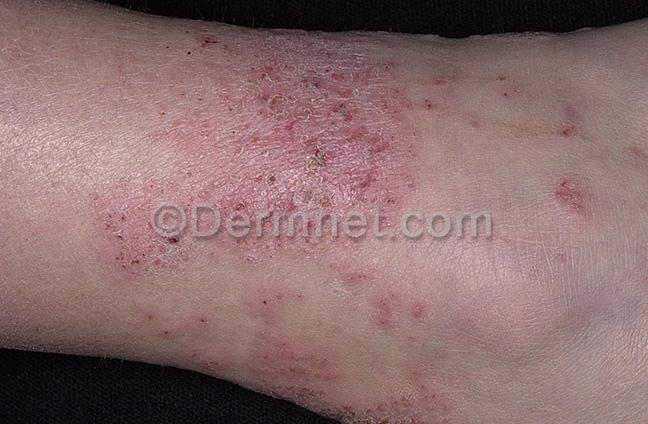Eritema 2: (0, 0, 593, 424)
xerosis 2: (97, 5, 493, 424)
